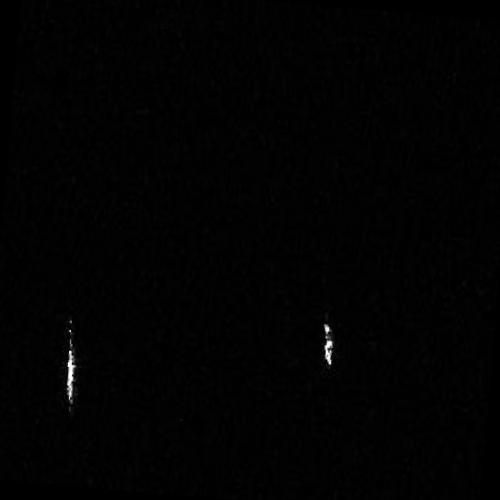ship: (64, 334, 77, 408), (322, 319, 334, 368)
